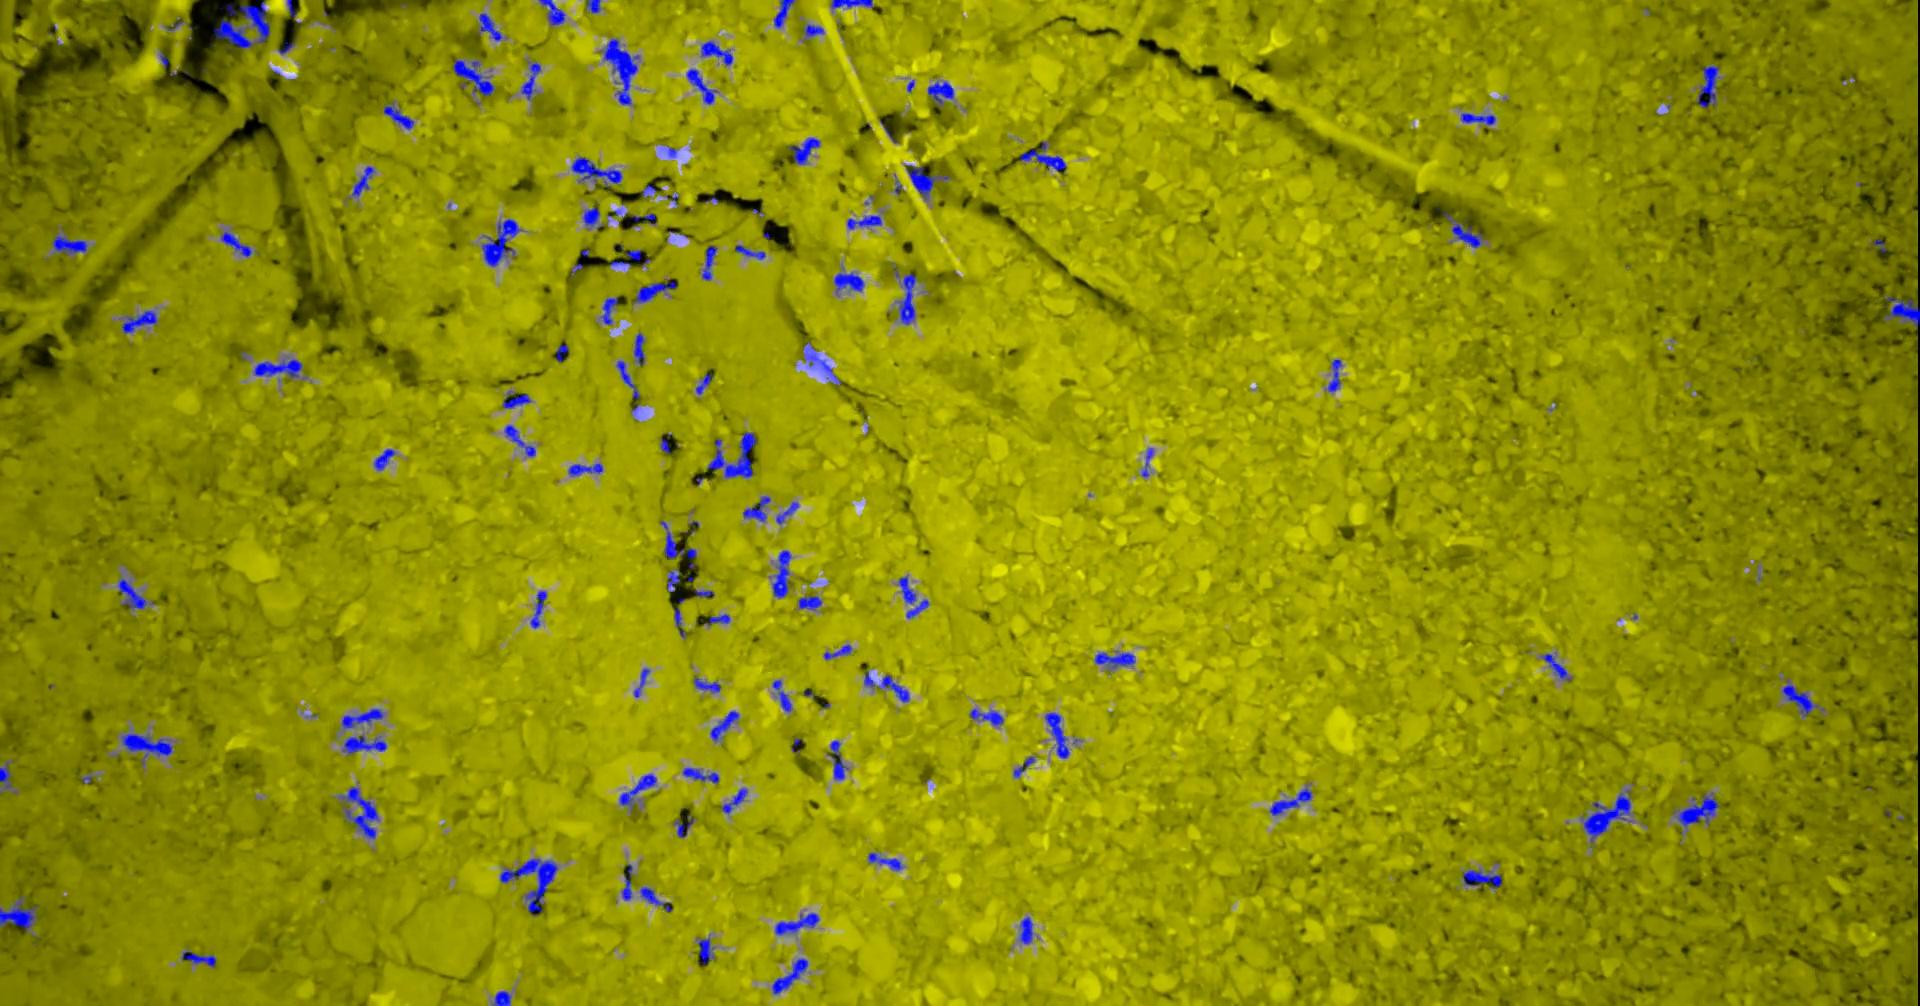ant: (1581, 789, 1630, 847), (707, 431, 756, 478), (603, 38, 637, 104), (339, 786, 378, 838), (481, 218, 521, 265), (659, 520, 696, 568), (803, 342, 841, 384), (452, 58, 494, 95), (905, 164, 949, 199), (571, 156, 621, 187), (1676, 793, 1718, 827), (1018, 141, 1065, 171), (1443, 211, 1482, 246), (771, 958, 808, 995), (618, 774, 657, 809), (1782, 680, 1817, 716), (0, 895, 38, 930), (119, 733, 171, 757), (1269, 788, 1310, 815), (1044, 713, 1069, 758), (686, 69, 717, 104), (1883, 295, 1919, 326), (117, 577, 152, 608), (504, 424, 535, 456), (775, 912, 819, 934), (1697, 65, 1718, 107), (634, 281, 676, 302), (898, 273, 916, 324), (772, 550, 791, 597), (616, 359, 639, 398), (254, 359, 302, 377), (342, 708, 383, 728), (787, 137, 819, 164), (121, 310, 157, 333), (383, 102, 413, 130), (710, 711, 738, 741), (700, 39, 731, 65), (220, 231, 251, 257), (639, 887, 672, 911), (342, 735, 386, 753), (881, 674, 909, 702), (833, 267, 863, 292), (827, 741, 847, 779), (1462, 869, 1501, 888), (1542, 653, 1570, 680), (521, 61, 540, 99), (742, 495, 770, 521), (350, 166, 375, 196), (52, 235, 88, 254), (720, 788, 747, 813), (477, 11, 502, 39), (1095, 652, 1134, 668), (538, 0, 565, 24), (530, 589, 546, 627), (927, 81, 952, 105), (969, 708, 1003, 725), (867, 852, 902, 870), (772, 680, 791, 711), (773, 0, 794, 27), (682, 767, 717, 782), (701, 245, 716, 279), (775, 500, 797, 523), (632, 667, 649, 697), (182, 951, 215, 967), (898, 575, 916, 603), (1012, 756, 1034, 777), (734, 244, 764, 259), (674, 814, 695, 837), (601, 296, 617, 324), (502, 391, 530, 408), (846, 215, 881, 227), (1327, 359, 1341, 391), (373, 448, 394, 470), (1460, 112, 1495, 124), (582, 206, 601, 229), (568, 464, 602, 476), (905, 600, 928, 619), (621, 862, 632, 901), (823, 644, 851, 659), (625, 249, 650, 265), (693, 677, 720, 692), (697, 937, 712, 963), (695, 372, 712, 394), (632, 332, 644, 365), (1018, 916, 1032, 942), (797, 594, 822, 608), (1142, 447, 1153, 476), (830, 0, 872, 8), (665, 570, 681, 591), (674, 607, 684, 636), (0, 762, 11, 788), (491, 989, 510, 1005), (803, 23, 823, 37), (629, 213, 655, 224), (703, 614, 729, 624), (555, 344, 568, 362), (277, 41, 293, 53), (585, 0, 599, 11), (693, 589, 712, 597), (660, 437, 669, 452)
